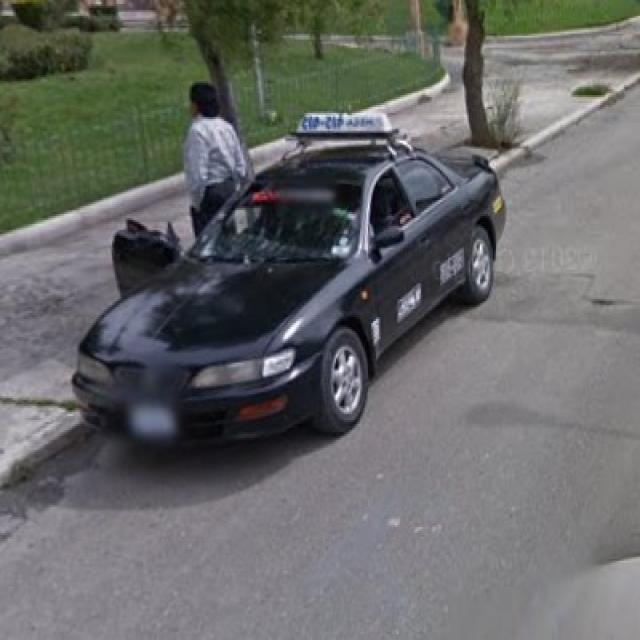car: (71, 110, 508, 451)
